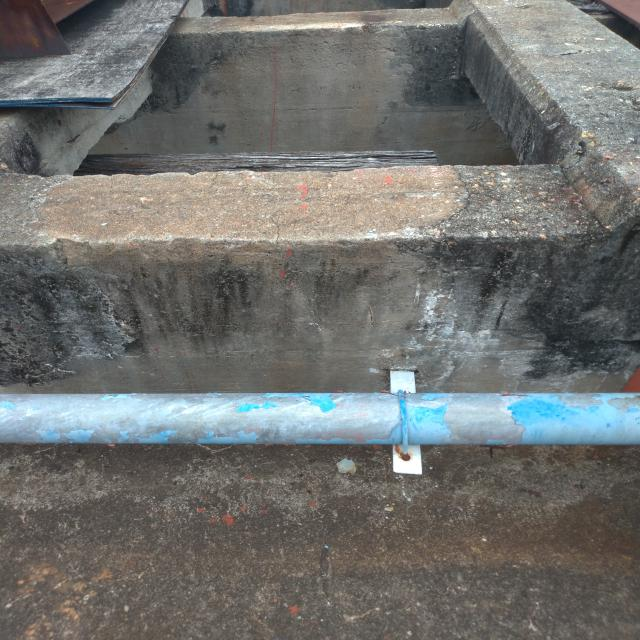gas: (6, 394, 637, 442)
